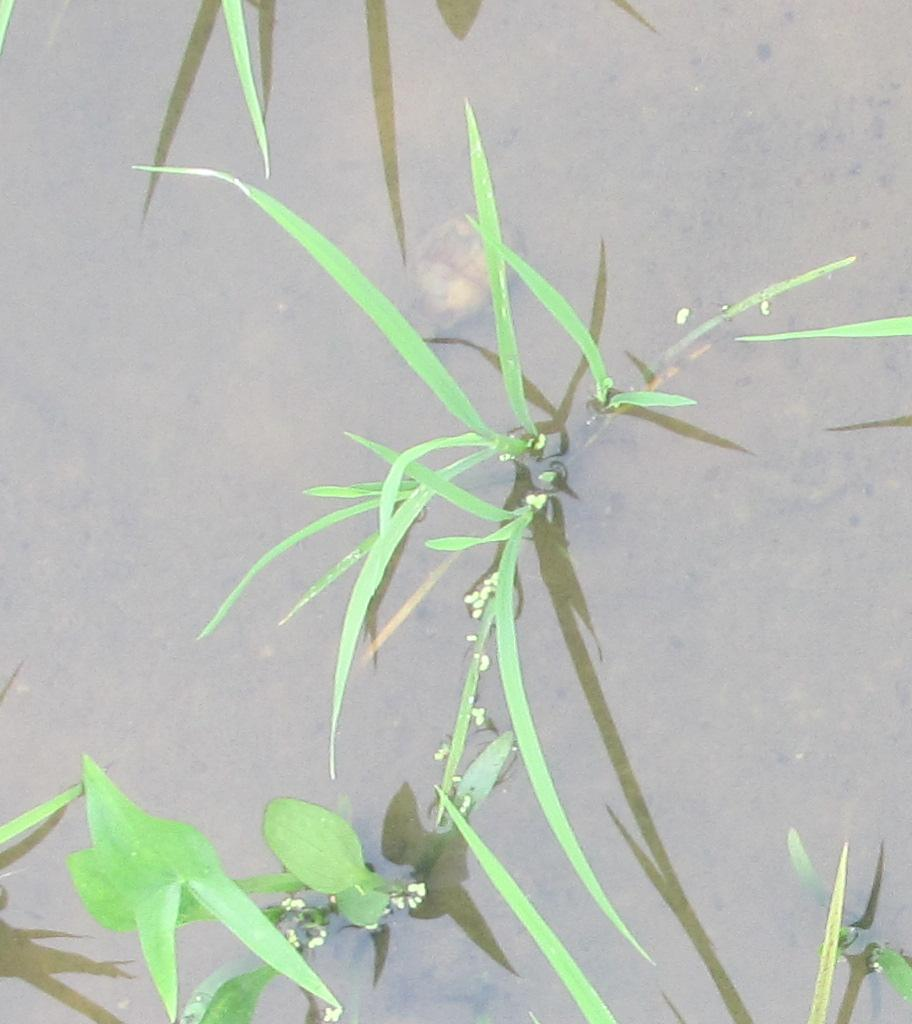Weed: (67, 789, 396, 950)
